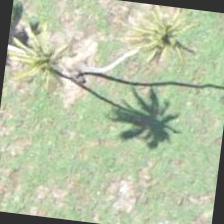Kelapa_Sawit: (0, 19, 94, 119), (115, 1, 214, 93)
